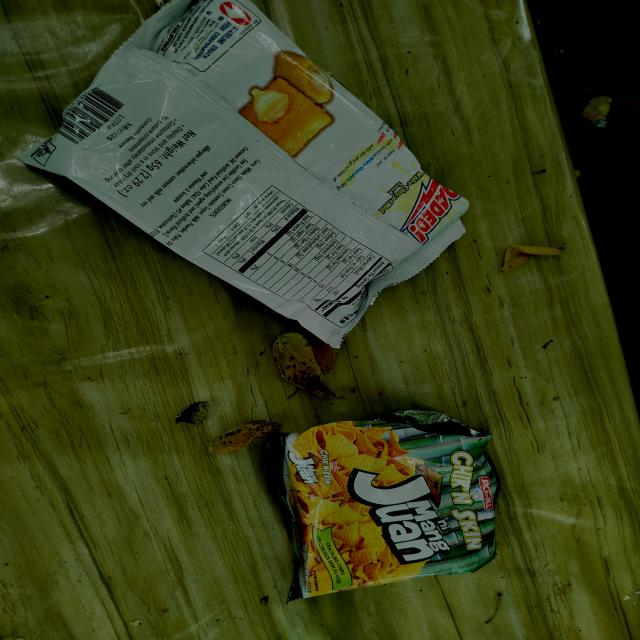residual: (10, 0, 498, 357), (269, 390, 526, 612)
